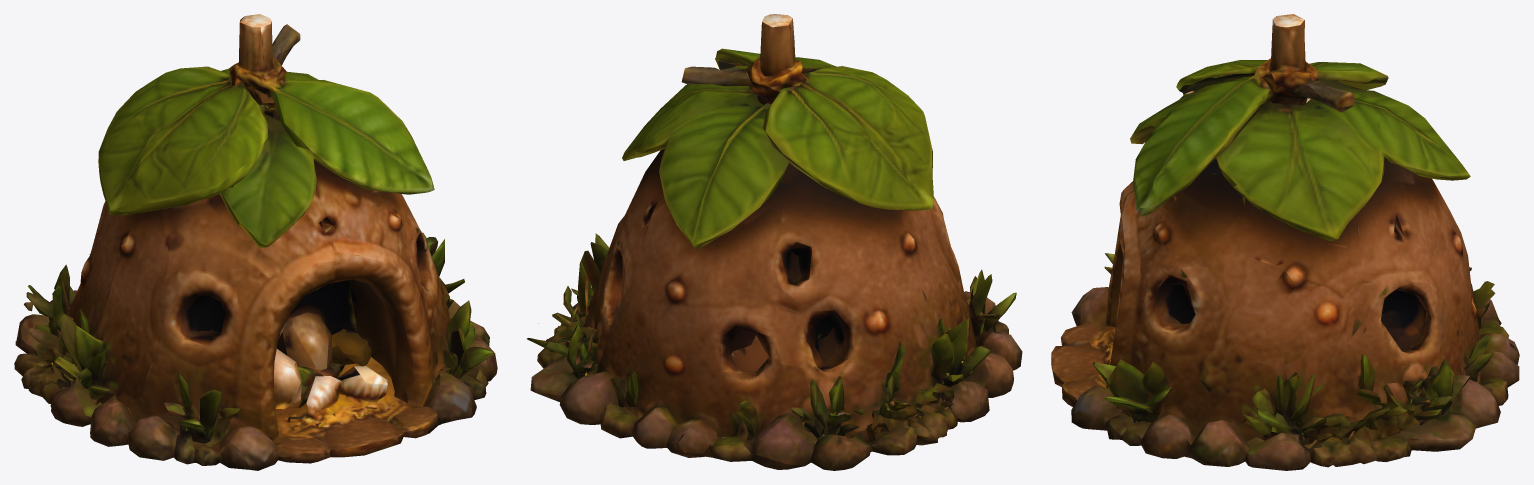
Rendered from Nursery.glb.
3 renders of one model, left to right at view 1: azimuth 30°, elevation 25°; view 2: azimuth 150°, elevation 25°; view 3: azimuth 270°, elevation 25°, orthographic.
Bounding box in the file's own units: 1.98 × 1.64 × 1.96.
1 material, 1 textured.
